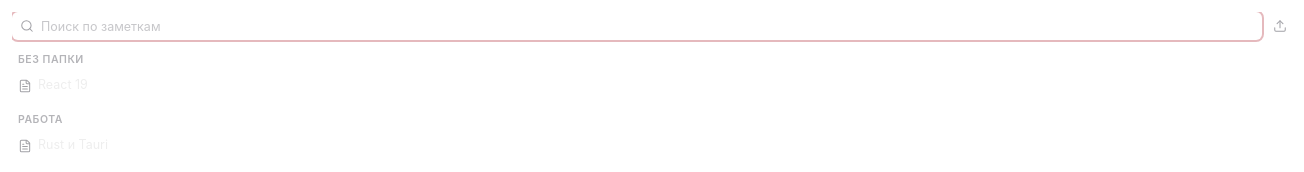
Test: NotesPanel › стрелка вниз возвращает закрытые подсказки
In the dropdown labelled "Поиск по заметкам": (637, 26) [12, 12, 1262, 40], type "заимствование"
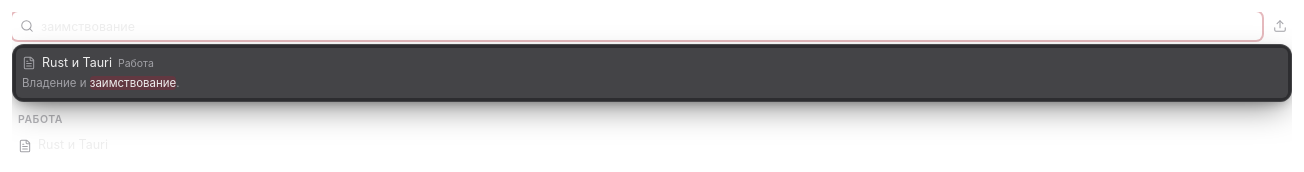
Press Escape
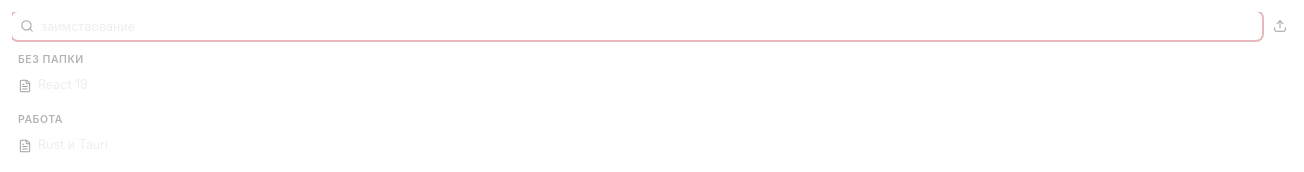
Expected: the list is gone
Press ArrowDown in the dropdown named "Поиск по заметкам", box [12, 12, 1262, 40]
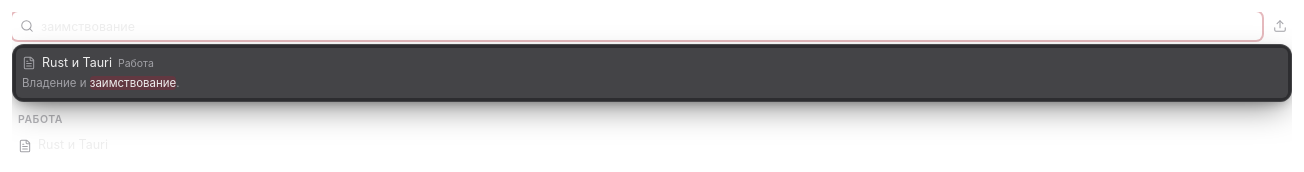
Expected: the list is shown, [12, 44, 1292, 102]
